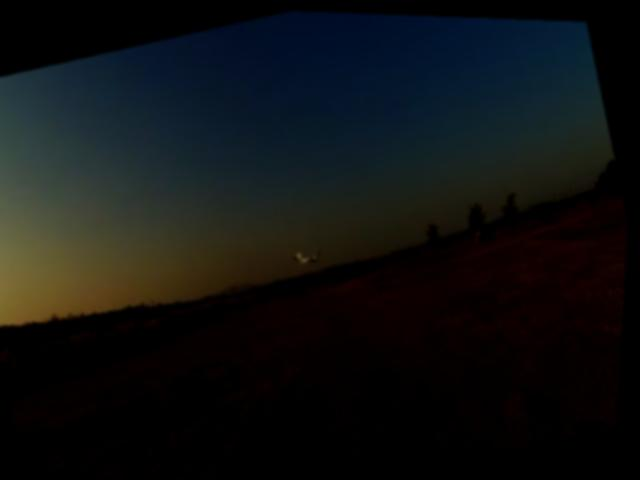uav: (288, 236, 335, 275)
